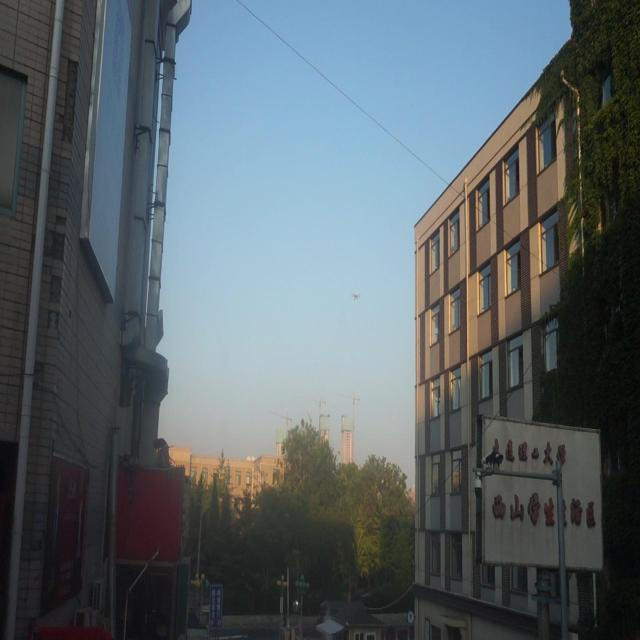drone: (348, 286, 364, 308)
